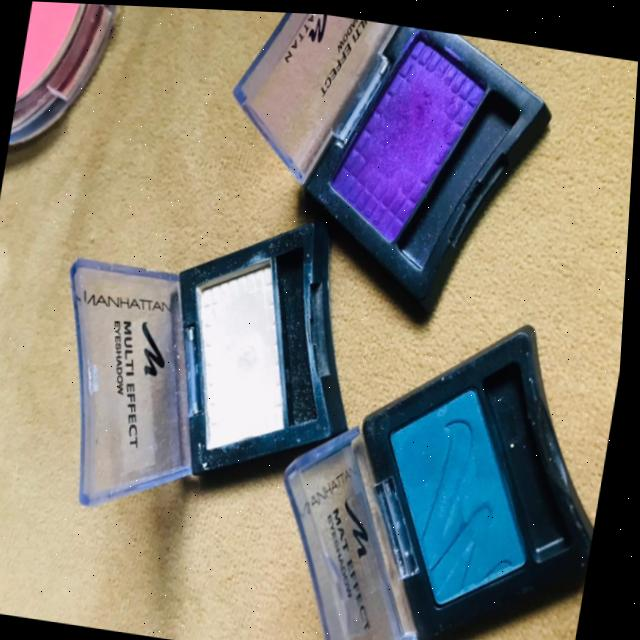eye shade: (354, 356, 584, 626), (304, 12, 523, 260), (165, 229, 328, 456)
